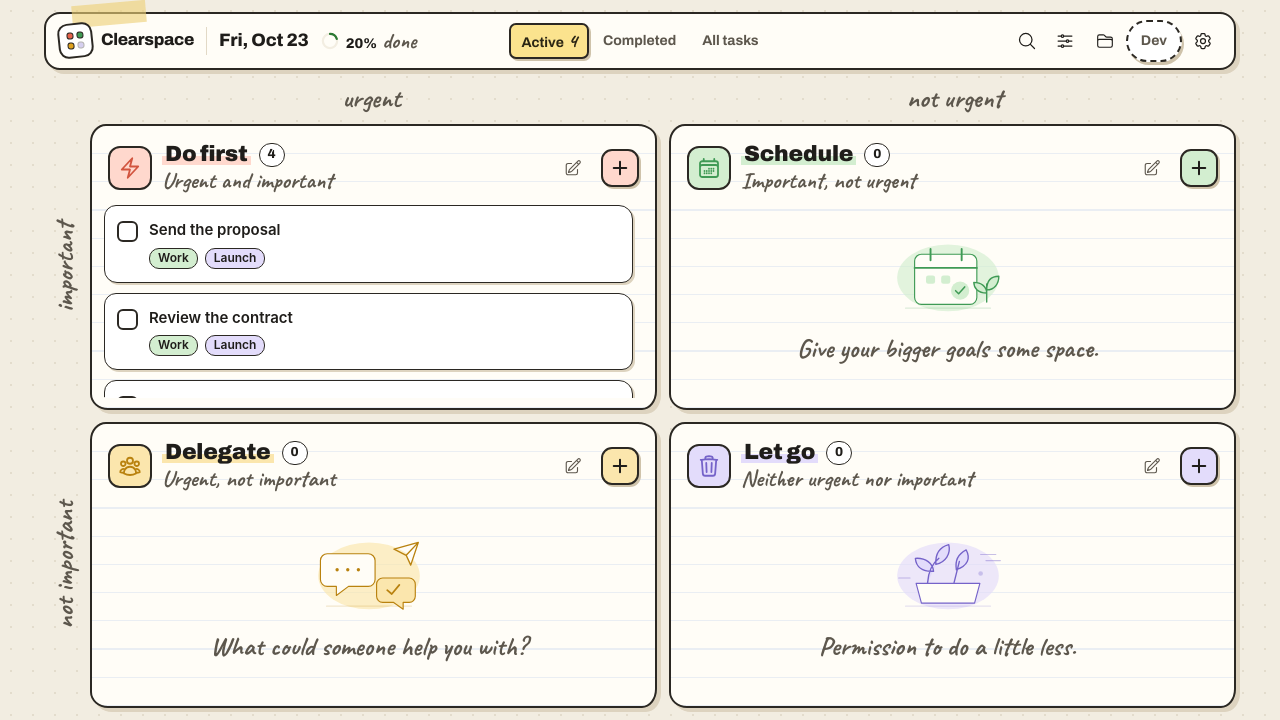
Test case: keeps duplicate-name feedback and clears it when editing the new name
The image size is (1280, 720).
Click the button named "Projects": (1105, 41) [1086,22,1124,60]
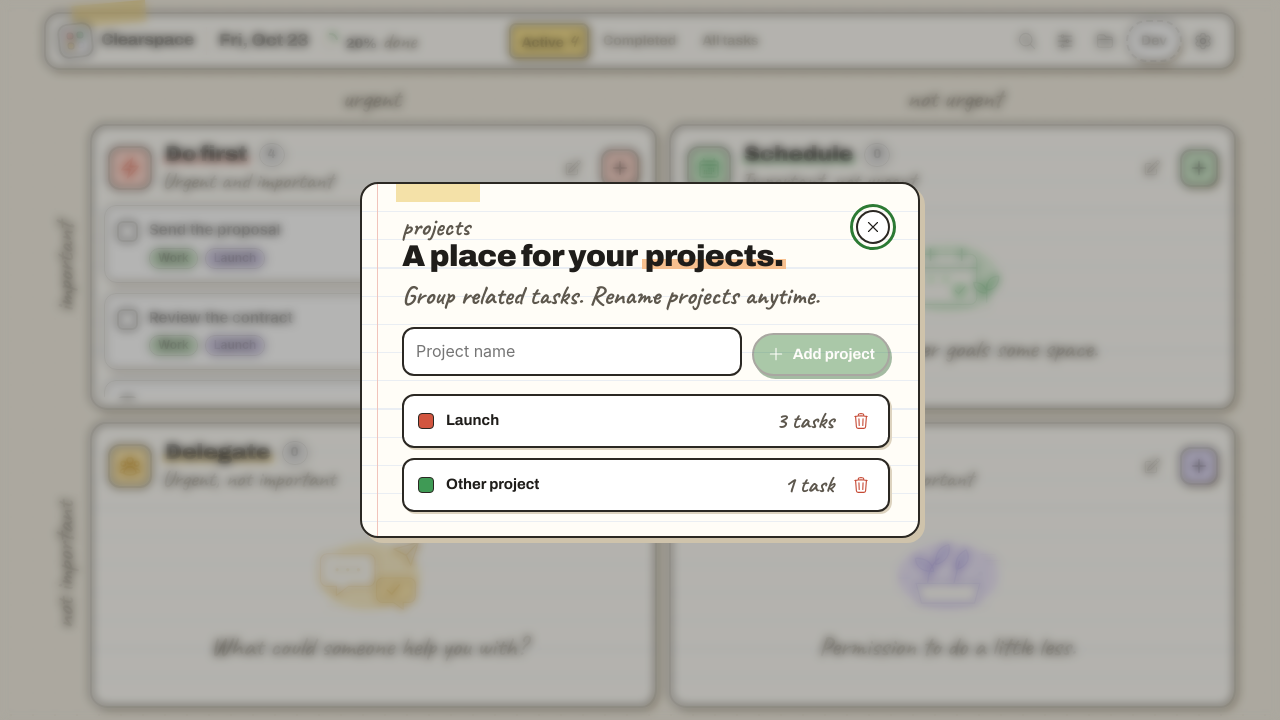
In the field named "New project": (572, 352) [402,327,742,376], type "Launch"
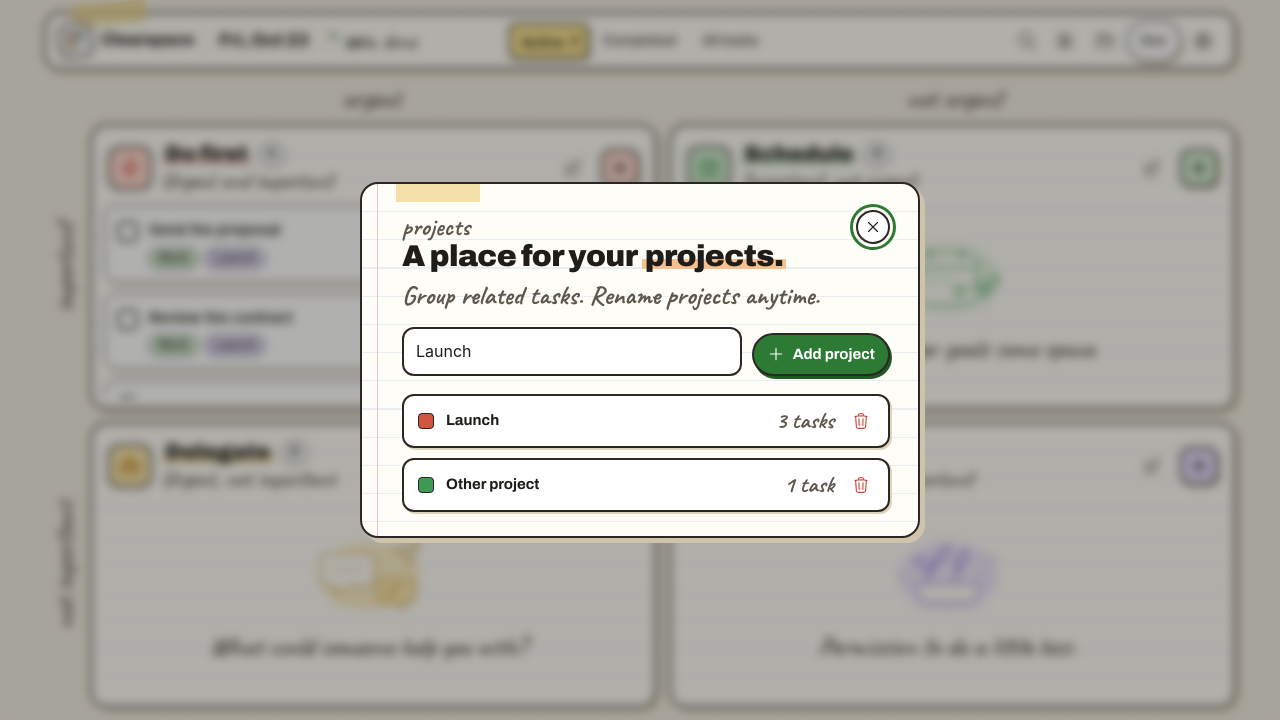
Click the button "Add project": (821, 354) [752,333,890,376]
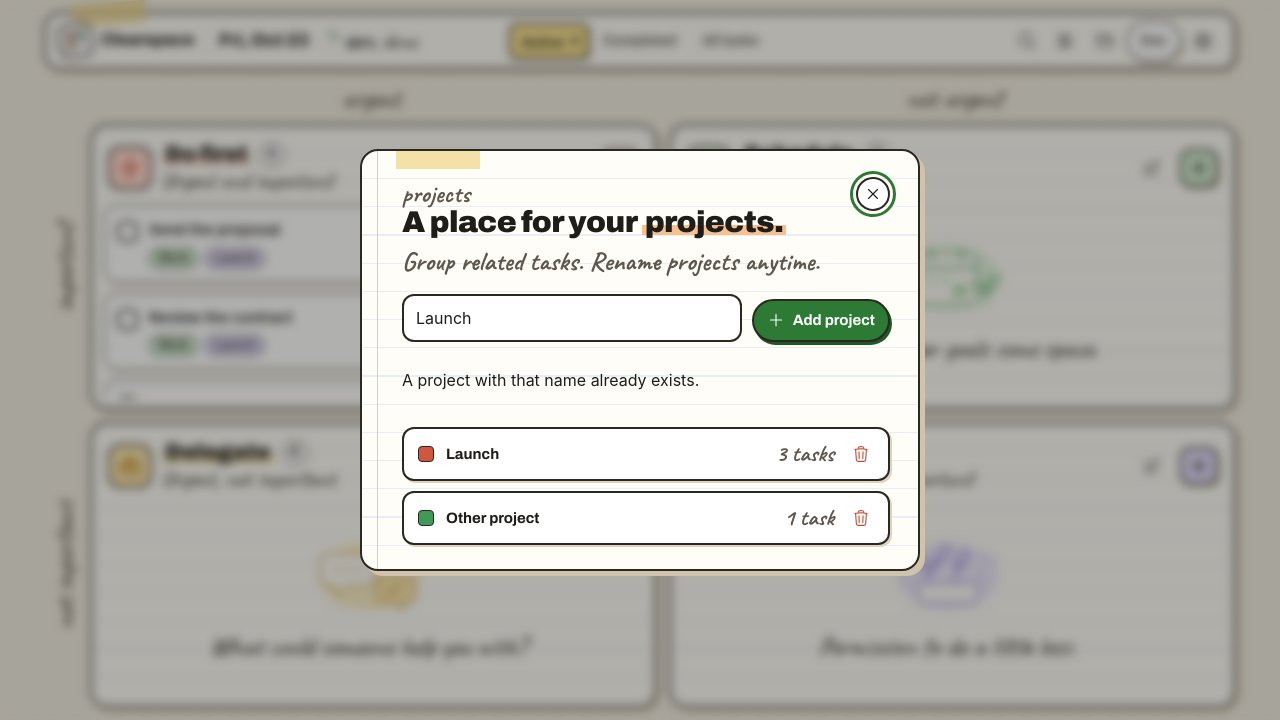
Expected: the message reads "A project with that name already exists.", [402,370,699,390]
Replace the text in the field named "New project" with "Another project": (572, 318) [402,294,742,342]
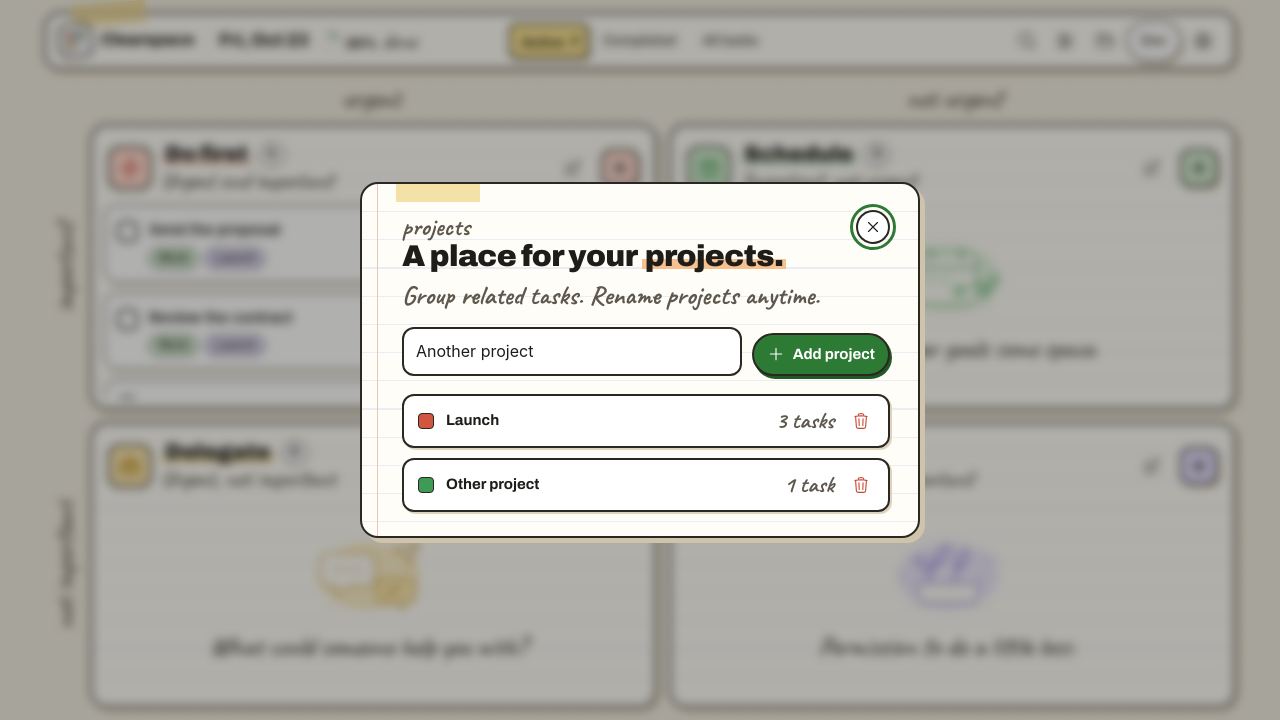
Expected: the message "A project with that name already exists." is gone
